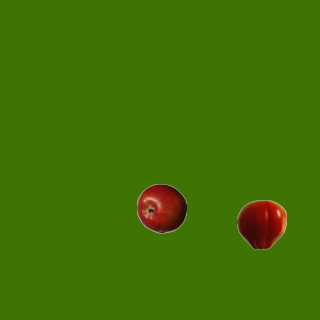Apple Braeburn: (136, 183, 186, 233)
Tomato 1: (236, 199, 286, 249)
